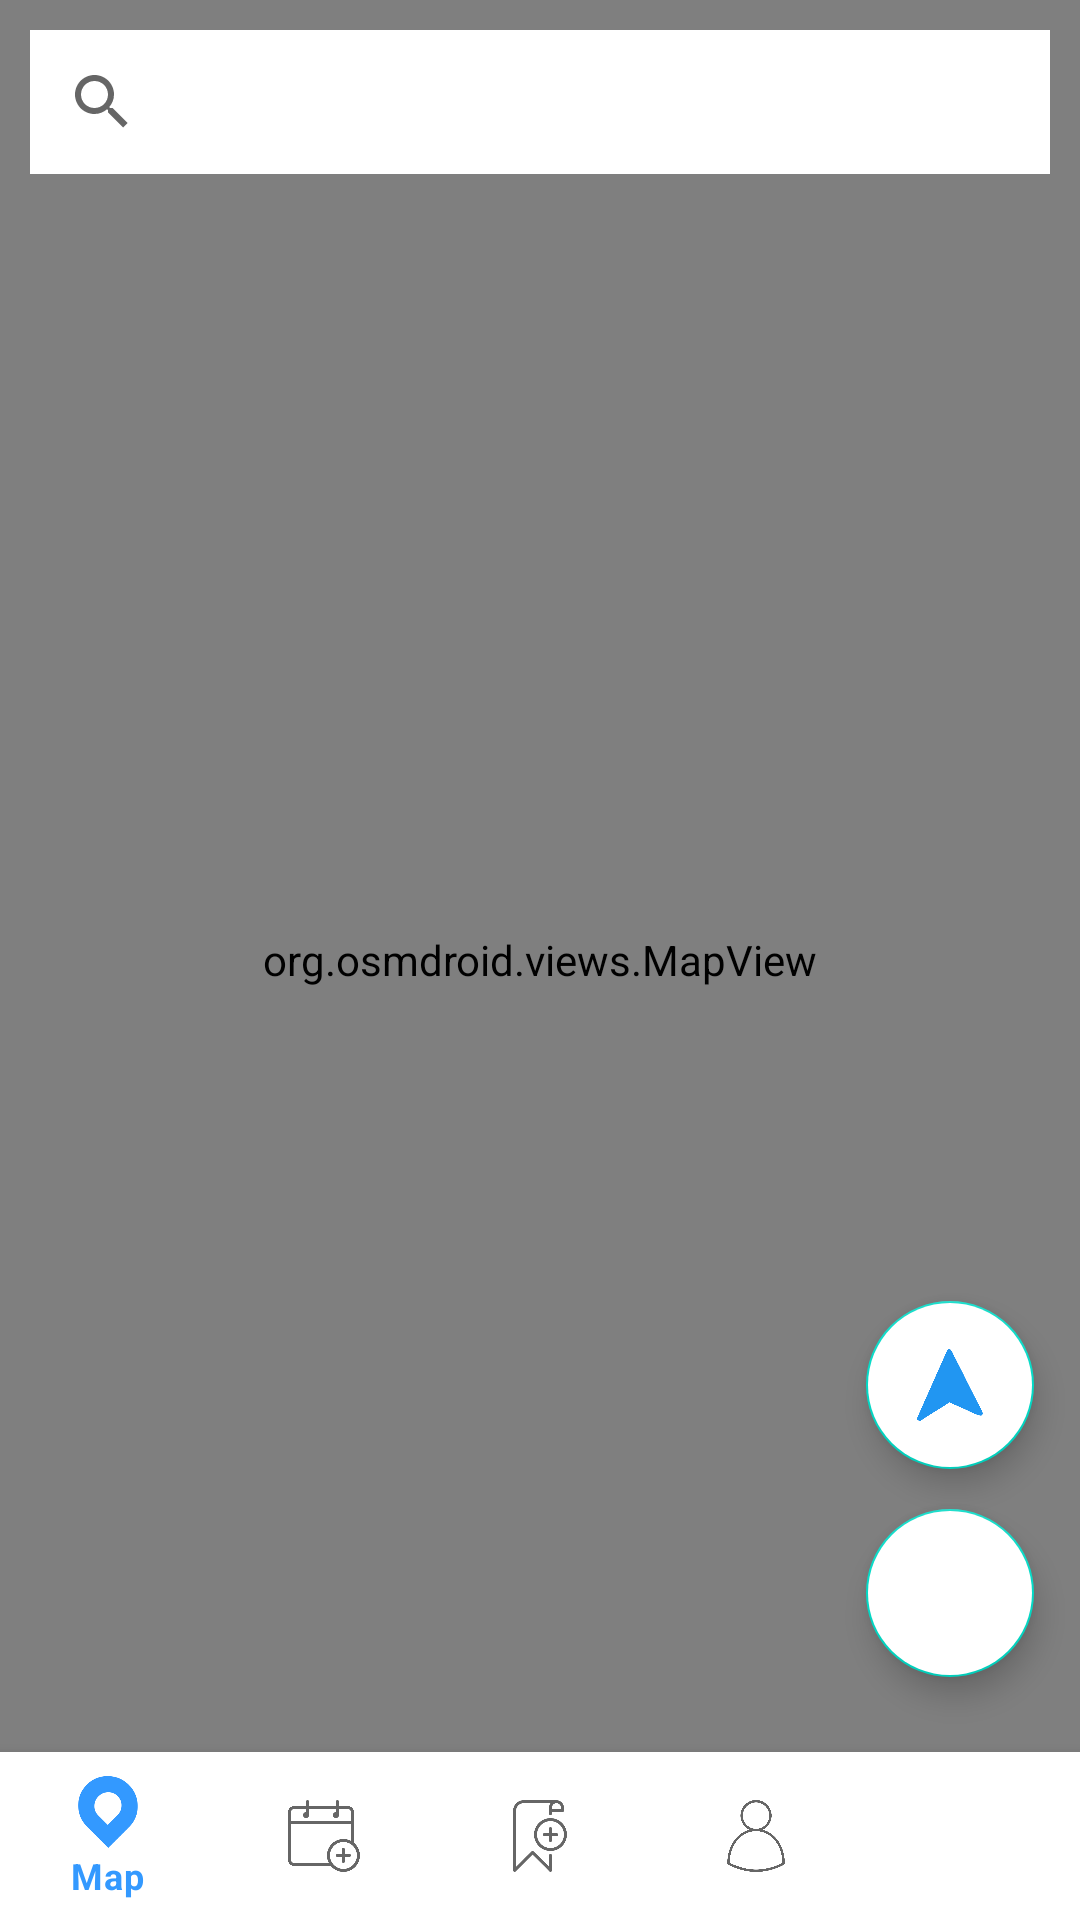

Icons on this 1080*1920 Android screen, each with its box as region(x1, y1, x2, y2):
pointer: region(866, 1301, 1034, 1469)
